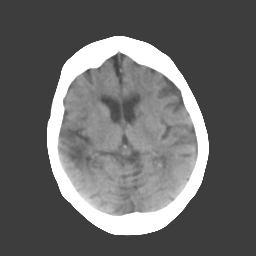ischemic: (63, 103, 107, 141)
